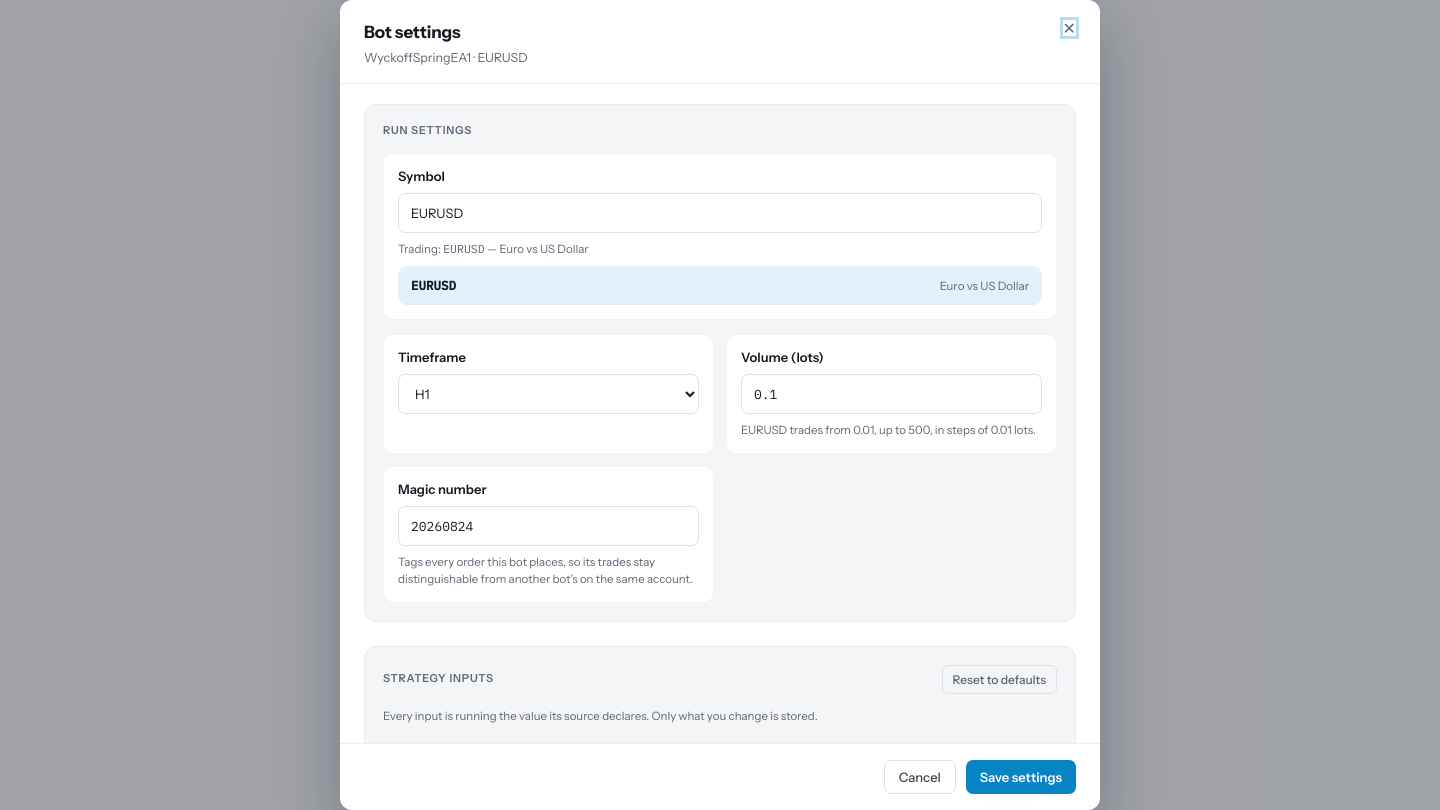
Test case: bot settings panel › never sends a search term shorter than the service minimum
This screenshot has width=1440, height=810.
Expected: the text "Euro vs US Dollar" is shown, [940,279,1029,293]
Replace the text in the search field labelled "Symbol" with "e" at (720, 213), box [398,193,1042,233]
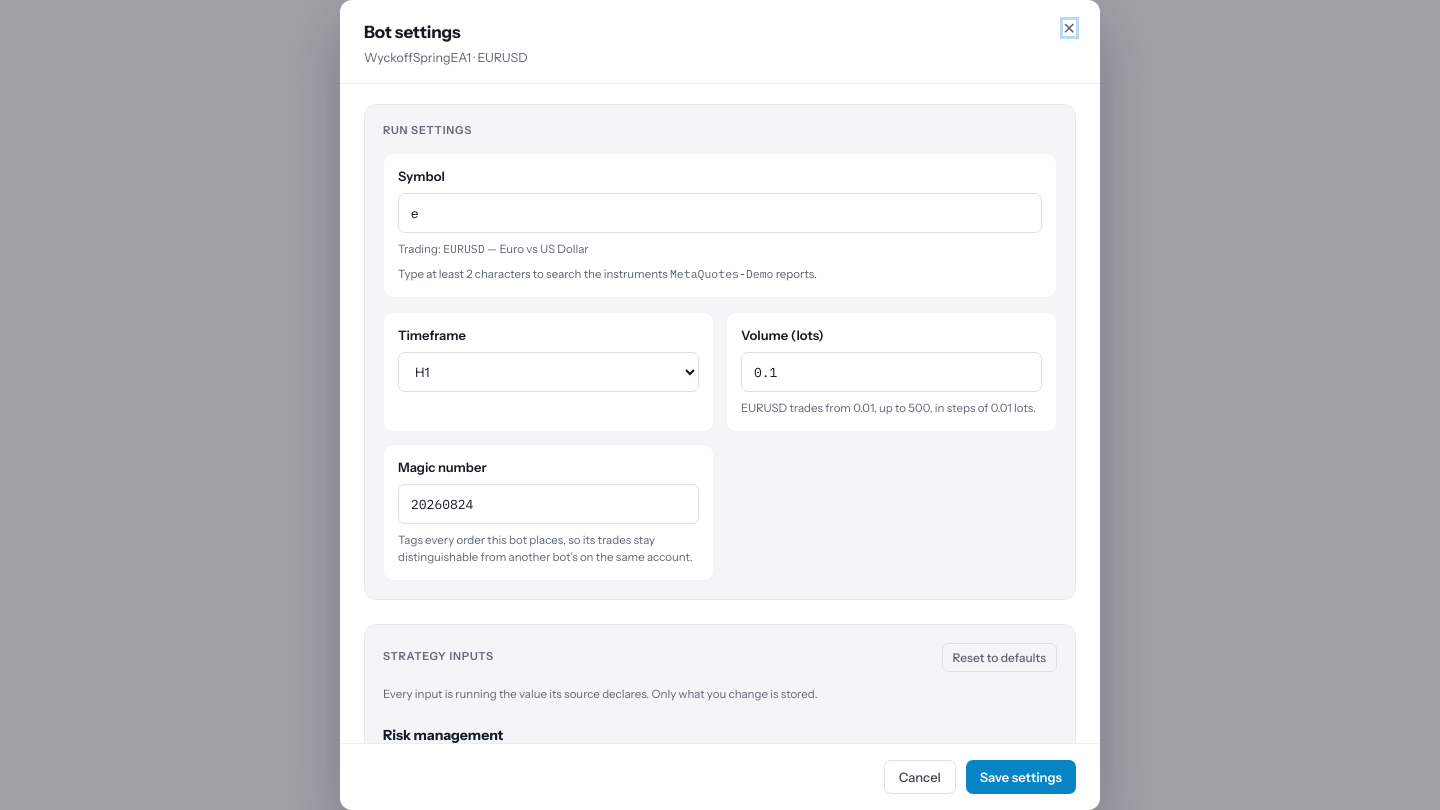
Now the text "Type at least 2 characters" is shown, box [398,266,817,281]
